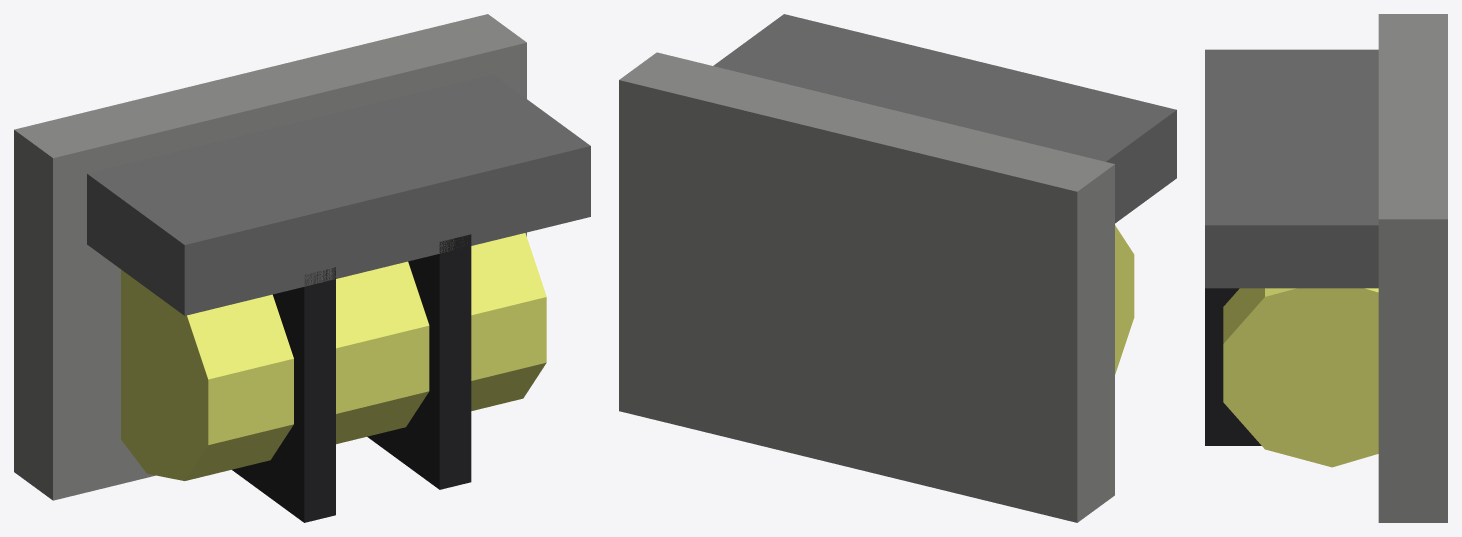
Rendered from oc_emergency_light_green.obj.
3 views of the same model, side by side, from view 1: azimuth 30°, elevation 25°; view 2: azimuth 150°, elevation 25°; view 3: azimuth 270°, elevation 25° (orthographic). The views are drawn at different scales.
Visible parts, largest first — view 1: oc_emergency_light_green_1, oc_emergency_light_green_0, oc_emergency_light_green_2, oc_emergency_light_green_4, oc_emergency_light_green_3; view 2: oc_emergency_light_green_0, oc_emergency_light_green_1, oc_emergency_light_green_2; view 3: oc_emergency_light_green_1, oc_emergency_light_green_0, oc_emergency_light_green_2, oc_emergency_light_green_4.
Part boxes in pixels (x1,y1,x2,y2): oc_emergency_light_green_1: (87,74,590,315); oc_emergency_light_green_0: (14,14,526,500); oc_emergency_light_green_2: (121,233,546,480); oc_emergency_light_green_4: (367,234,471,489); oc_emergency_light_green_3: (232,267,335,522); oc_emergency_light_green_0: (619,52,1114,522); oc_emergency_light_green_1: (713,14,1176,223); oc_emergency_light_green_2: (1115,225,1134,374); oc_emergency_light_green_1: (1205,49,1378,288); oc_emergency_light_green_0: (1378,14,1447,522); oc_emergency_light_green_2: (1223,288,1378,467); oc_emergency_light_green_4: (1205,288,1261,445).
Bounding box in the file's own units: 0.42 × 0.29 × 0.21.
